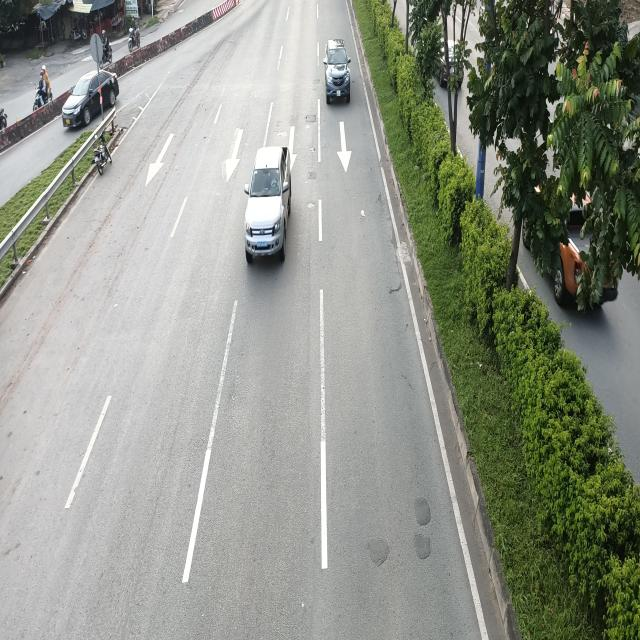car: (246, 148, 294, 264), (322, 37, 350, 103)
